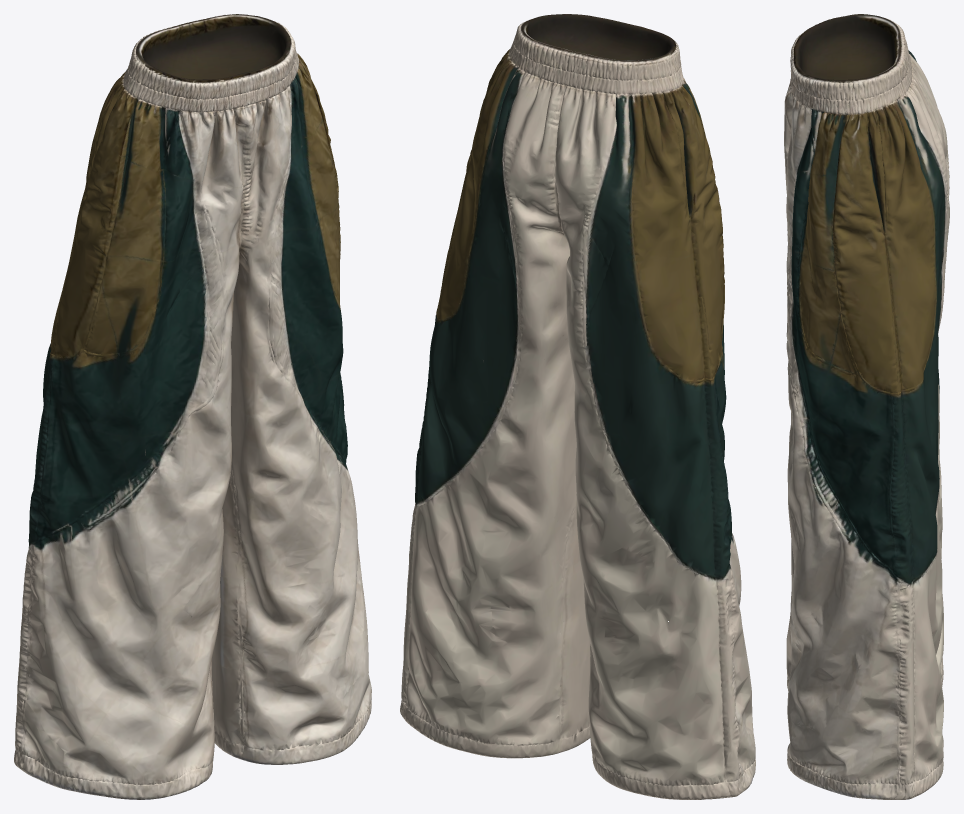
Rendered from suit-detour-pants.glb.
3 views of the same model, side by side, from view 1: azimuth 30°, elevation 25°; view 2: azimuth 150°, elevation 25°; view 3: azimuth 270°, elevation 25° (orthographic). The views are drawn at different scales.
Visible parts, largest first — view 1: tripo_node_4f69a13b-f5ae-467f-8b91-324733adcda3; view 2: tripo_node_4f69a13b-f5ae-467f-8b91-324733adcda3; view 3: tripo_node_4f69a13b-f5ae-467f-8b91-324733adcda3.
Part boxes in pixels (x1=…): tripo_node_4f69a13b-f5ae-467f-8b91-324733adcda3: x1=14, y1=14, x2=371, y2=799; tripo_node_4f69a13b-f5ae-467f-8b91-324733adcda3: x1=400, y1=14, x2=755, y2=799; tripo_node_4f69a13b-f5ae-467f-8b91-324733adcda3: x1=784, y1=14, x2=949, y2=799.
Size of the model in its own units: 0.517 by 1.04 by 0.228.
1 material, 1 textured.
